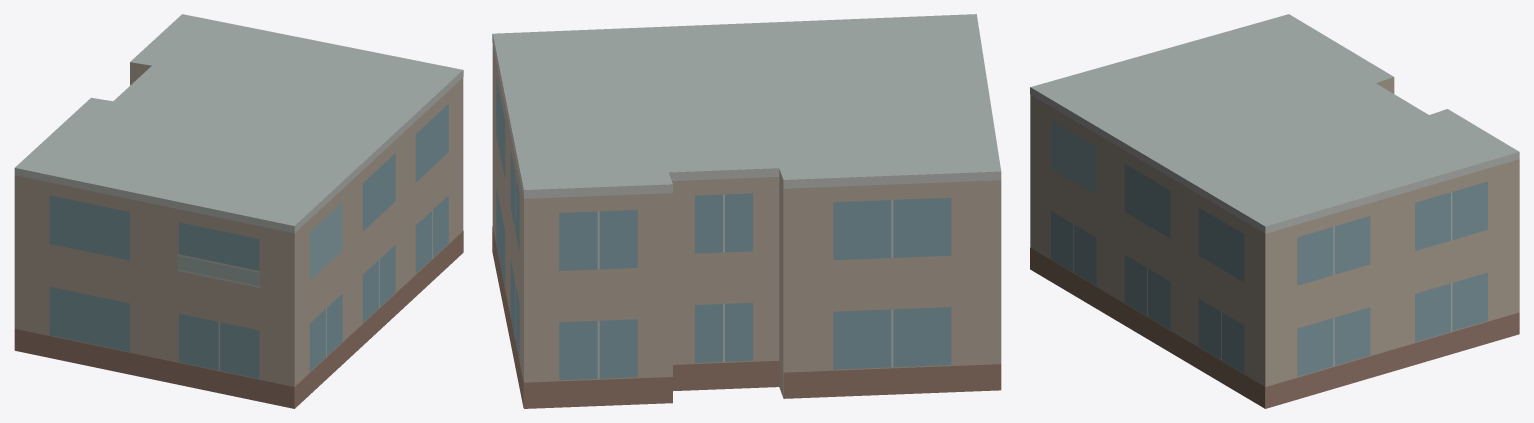
File: survey-upis-32712884.glb
3 renders of one model, left to right at view 1: azimuth 30°, elevation 25°; view 2: azimuth 150°, elevation 25°; view 3: azimuth 270°, elevation 25°, orthographic. The views are drawn at different scales.
Parts seen in each view (by area): view 1: survey-upis-32712884.tmp; view 2: survey-upis-32712884.tmp; view 3: survey-upis-32712884.tmp.
Part boxes in pixels (<box>): survey-upis-32712884.tmp: <box>14,14,463,408</box>; survey-upis-32712884.tmp: <box>492,14,1001,408</box>; survey-upis-32712884.tmp: <box>1030,14,1519,408</box>.
Size of the model in its own units: 15.27 by 6.1 by 14.85.
